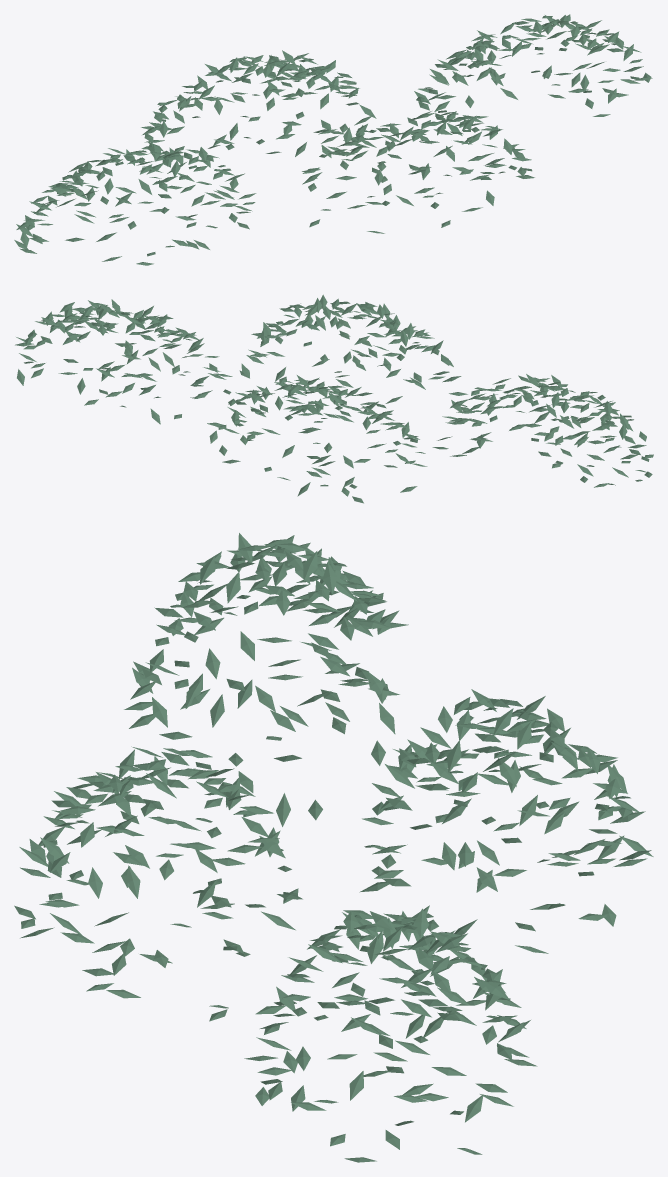
File: teaching3-vegetation-02-near.glb
3 views of the same model, one above another, from view 1: azimuth 30°, elevation 25°; view 2: azimuth 150°, elevation 25°; view 3: azimuth 270°, elevation 25° (orthographic). The views are drawn at different scales.
Visible parts, largest first — view 1: shrubs.002; view 2: shrubs.002; view 3: shrubs.002.
Boxes of the visible parts, <box> form: shrubs.002: <box>14,14,652,265</box>; shrubs.002: <box>15,294,653,503</box>; shrubs.002: <box>14,533,653,1162</box>.
Size of the model in its own units: 11.78 by 1.59 by 5.61.
